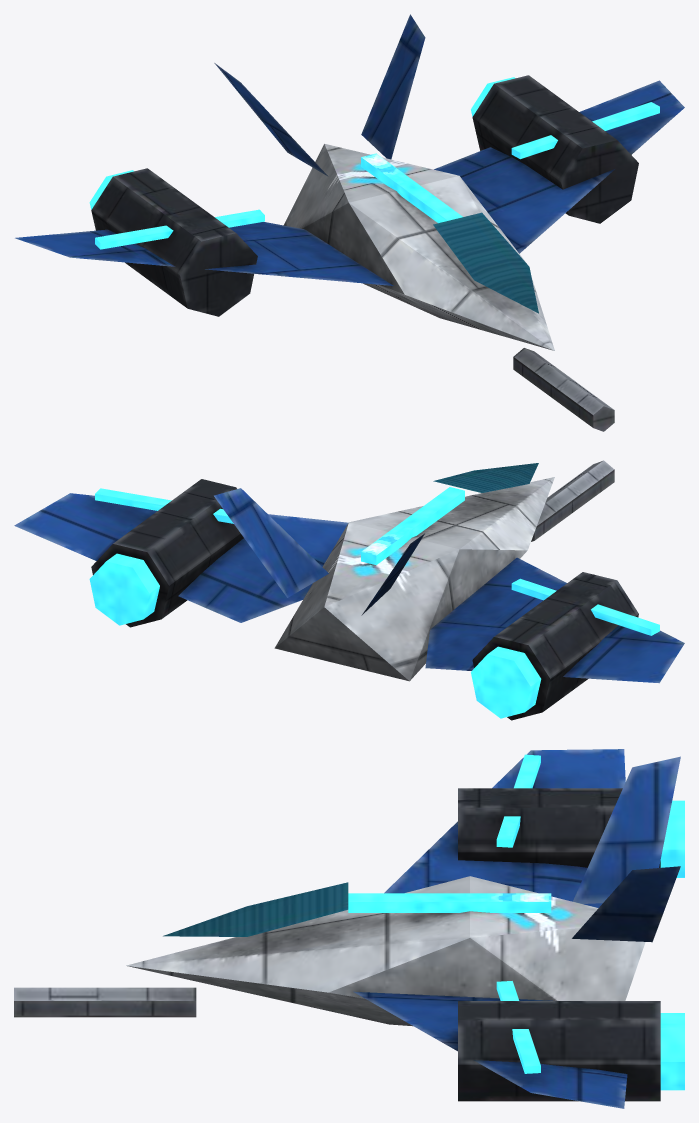
Rendered from s_skyreaver_w.glb.
3 renders of one model, top to bottom at view 1: azimuth 30°, elevation 25°; view 2: azimuth 150°, elevation 25°; view 3: azimuth 270°, elevation 25°, orthographic. The views are drawn at different scales.
Parts seen in each view (by area): view 1: s_skyreaver_w; view 2: s_skyreaver_w; view 3: s_skyreaver_w.
Part boxes in pixels (x1,y1,x2,y2): s_skyreaver_w: [15, 14, 684, 431]; s_skyreaver_w: [14, 460, 684, 720]; s_skyreaver_w: [14, 749, 684, 1108].
Size of the model in its own units: 2.1 by 0.58 by 1.65.
Materials: 1 (1 with a texture image).
